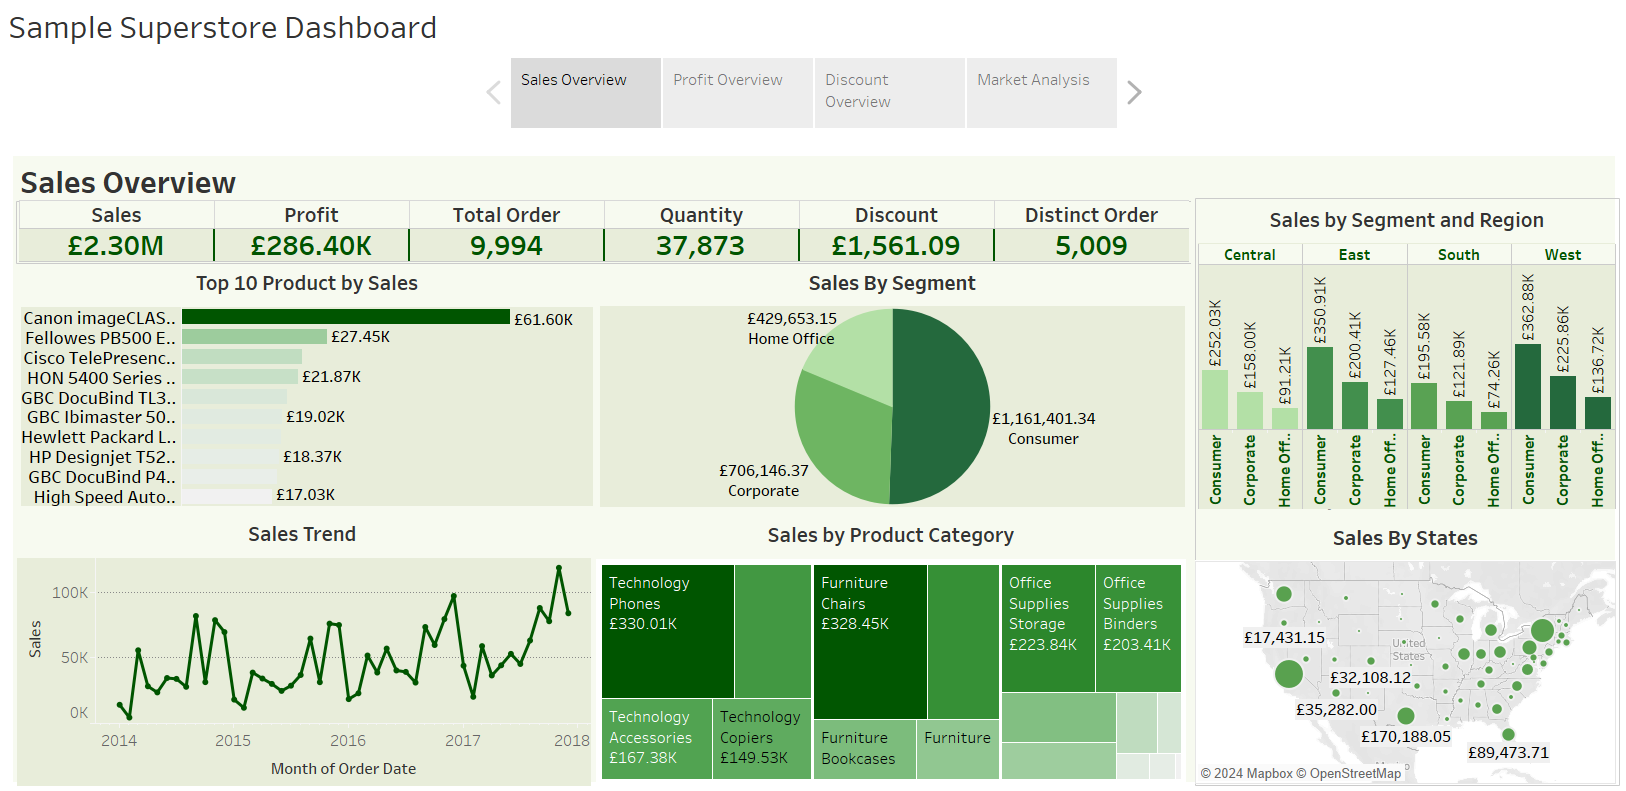

The page's visual inventory and layout, read from the dashboard file:
{"tool":"tableau","page":{"name":"Sales Overview","canvas":[1000,1000],"units":"permille","ordinal":3},"visuals":[{"type":"title","box":[4.2,8.8,991.7,54.2]},{"type":"worksheet","title":"KPI","mark":"Automatic","box":[8.4,81.2,723.6,96.1]},{"type":"worksheet","title":"Sales by Segment and Region","mark":"Automatic","rows":["Sales"],"cols":["Region","Segment"],"box":[737.5,82.4,258.3,480.7]},{"type":"worksheet","title":"Top 10 Product by Sales","mark":"Automatic","rows":["Product Name"],"cols":["Sales"],"box":[9.7,181,353.7,377]},{"type":"worksheet","title":"Sales By Segment","mark":"Pie","box":[367.5,181,361.5,378.3]},{"type":"worksheet","title":"Sales Trend ","mark":"Automatic","rows":["Sales"],"cols":["Order Date"],"box":[7.3,571.8,355.1,422]},{"type":"worksheet","title":"Sales by Product Category","mark":"Automatic","box":[365.1,573,364.5,419.5]},{"type":"worksheet","title":"Sales By States","mark":"Automatic","box":[735.6,578,260.1,413.2]}]}

Visuals, with their boxes on the dashboard's canvas, which has no fixed pixel size, in thousandths of its width and height (x1, y1, x2, y2). These are canvas units, not pixel positions in the 1626x791 screenshot, which may show the page scaled, cropped or inside an application window:
title: pyautogui.locateOnScreen(4, 9, 996, 63)
"KPI" worksheet: pyautogui.locateOnScreen(8, 81, 732, 177)
"Sales by Segment and Region" worksheet: pyautogui.locateOnScreen(738, 82, 996, 563)
"Top 10 Product by Sales" worksheet: pyautogui.locateOnScreen(10, 181, 363, 558)
"Sales By Segment" worksheet (Pie marks): pyautogui.locateOnScreen(368, 181, 729, 559)
"Sales Trend " worksheet: pyautogui.locateOnScreen(7, 572, 362, 994)
"Sales by Product Category" worksheet: pyautogui.locateOnScreen(365, 573, 730, 992)
"Sales By States" worksheet: pyautogui.locateOnScreen(736, 578, 996, 991)
